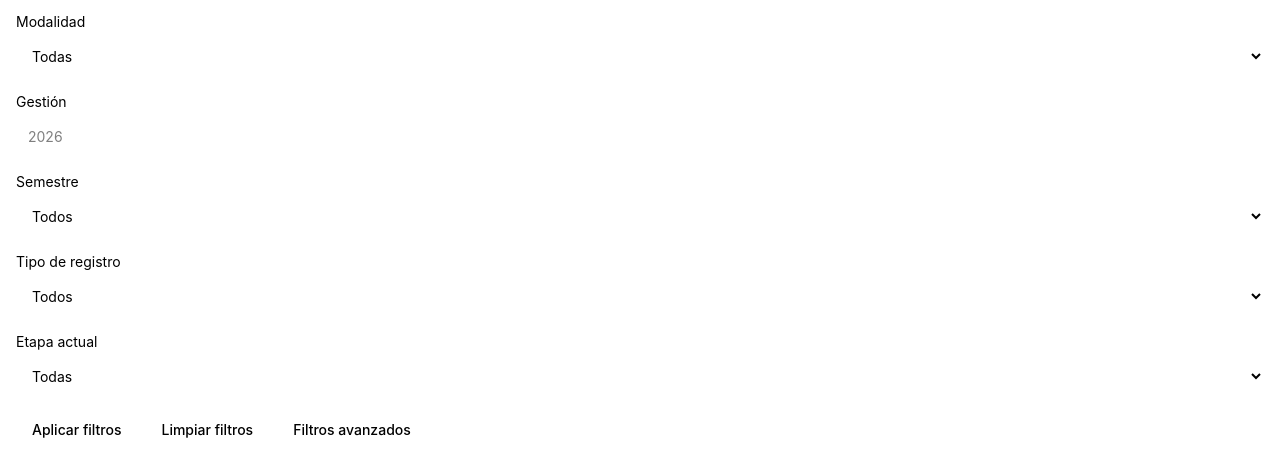
Test case: ReportFilters › maneja modalidad sin etapas y error de capacidades
Select "Proyecto" in the dropdown labelled "Modalidad" at (640, 56), box [16,36,1264,76]
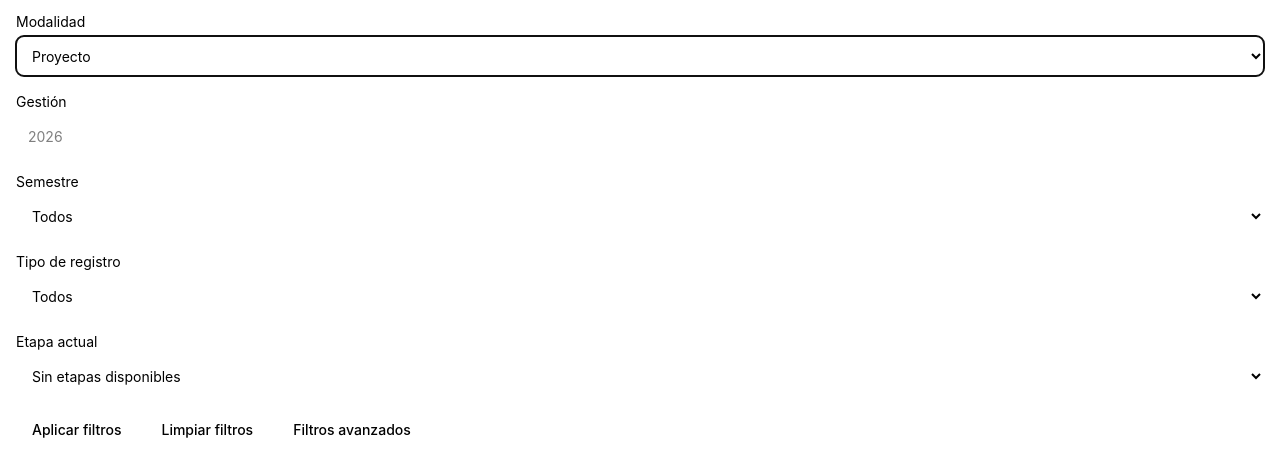
Select "Tesis" in the dropdown labelled "Modalidad" at (640, 56), box [16,36,1264,76]
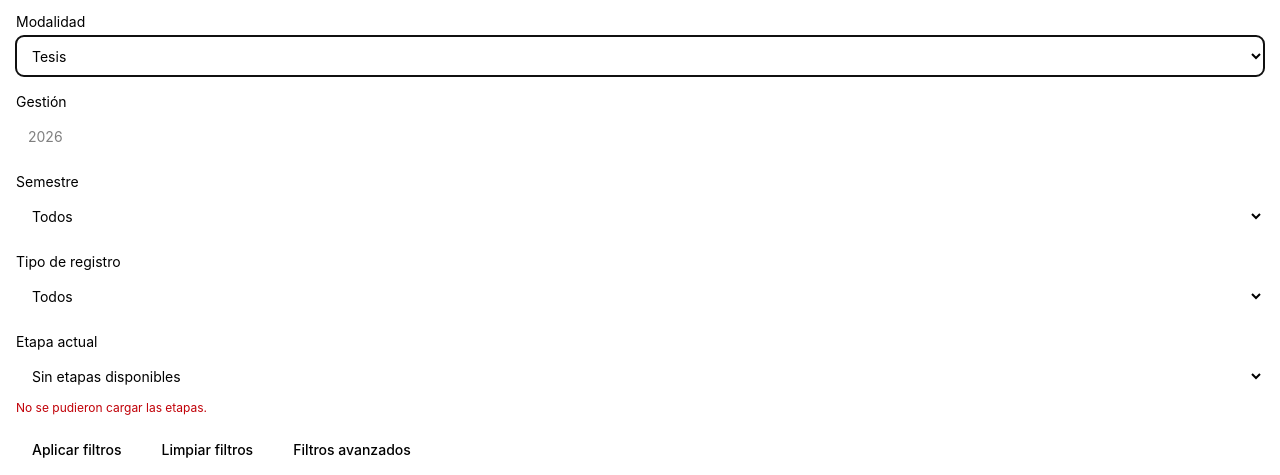
Check: the text "No se pudieron cargar las etapas." is shown, box [16,400,207,415]
